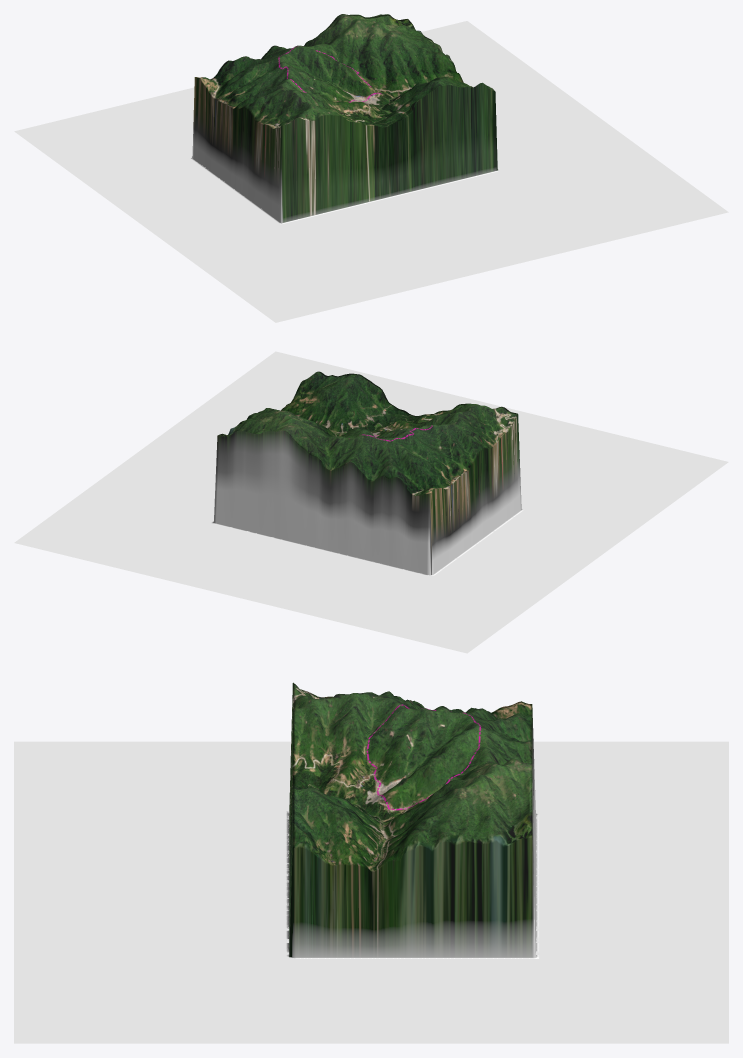
The model's file is high_dem.gltf.
3 views of the same model, one above another, from view 1: azimuth 30°, elevation 25°; view 2: azimuth 150°, elevation 25°; view 3: azimuth 270°, elevation 25° (orthographic). The views are drawn at different scales.
Parts seen in each view (by area): view 1: 裁剪范围, Flat Plane; view 2: 裁剪范围, Flat Plane; view 3: 裁剪范围, Flat Plane.
Part boxes in pixels (bbox=[...]): 裁剪范围: bbox=[18, 14, 728, 322]; Flat Plane: bbox=[14, 21, 726, 318]; 裁剪范围: bbox=[14, 351, 728, 653]; Flat Plane: bbox=[15, 351, 723, 652]; 裁剪范围: bbox=[14, 682, 728, 1043]; Flat Plane: bbox=[14, 741, 728, 1043].
Bounding box in the file's own units: 0.0696 × 0.0161 × 0.0696.
Materials: 2 (2 with a texture image).
